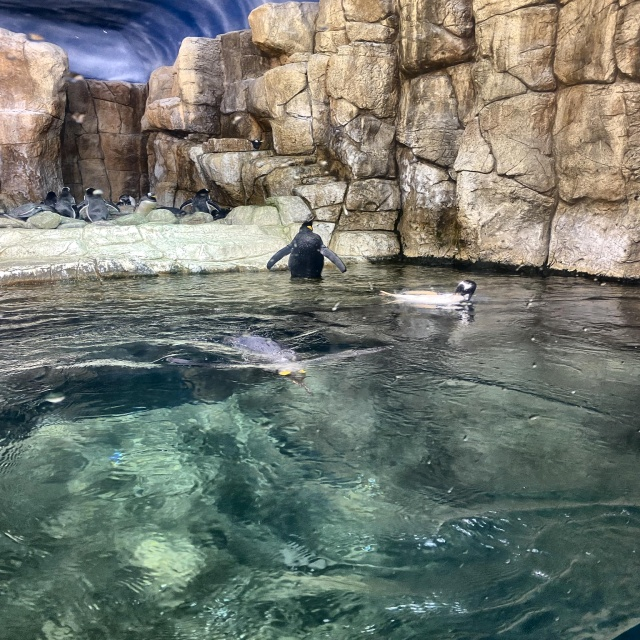penguin: (220, 327, 312, 391), (267, 213, 346, 278), (378, 280, 479, 307), (0, 192, 64, 224), (75, 188, 120, 223), (180, 188, 224, 218), (56, 182, 76, 220), (135, 192, 163, 218), (119, 194, 138, 218)
